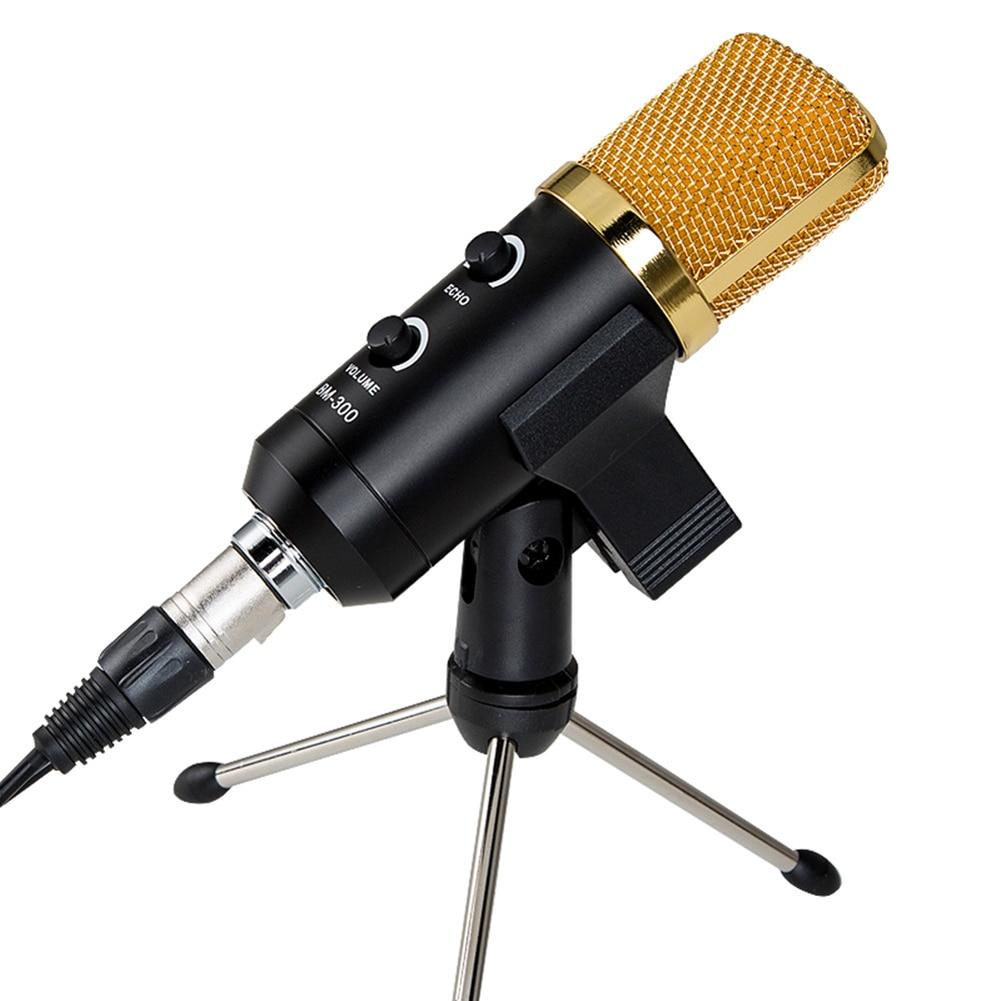Microphone: (0, 10, 936, 1001)
